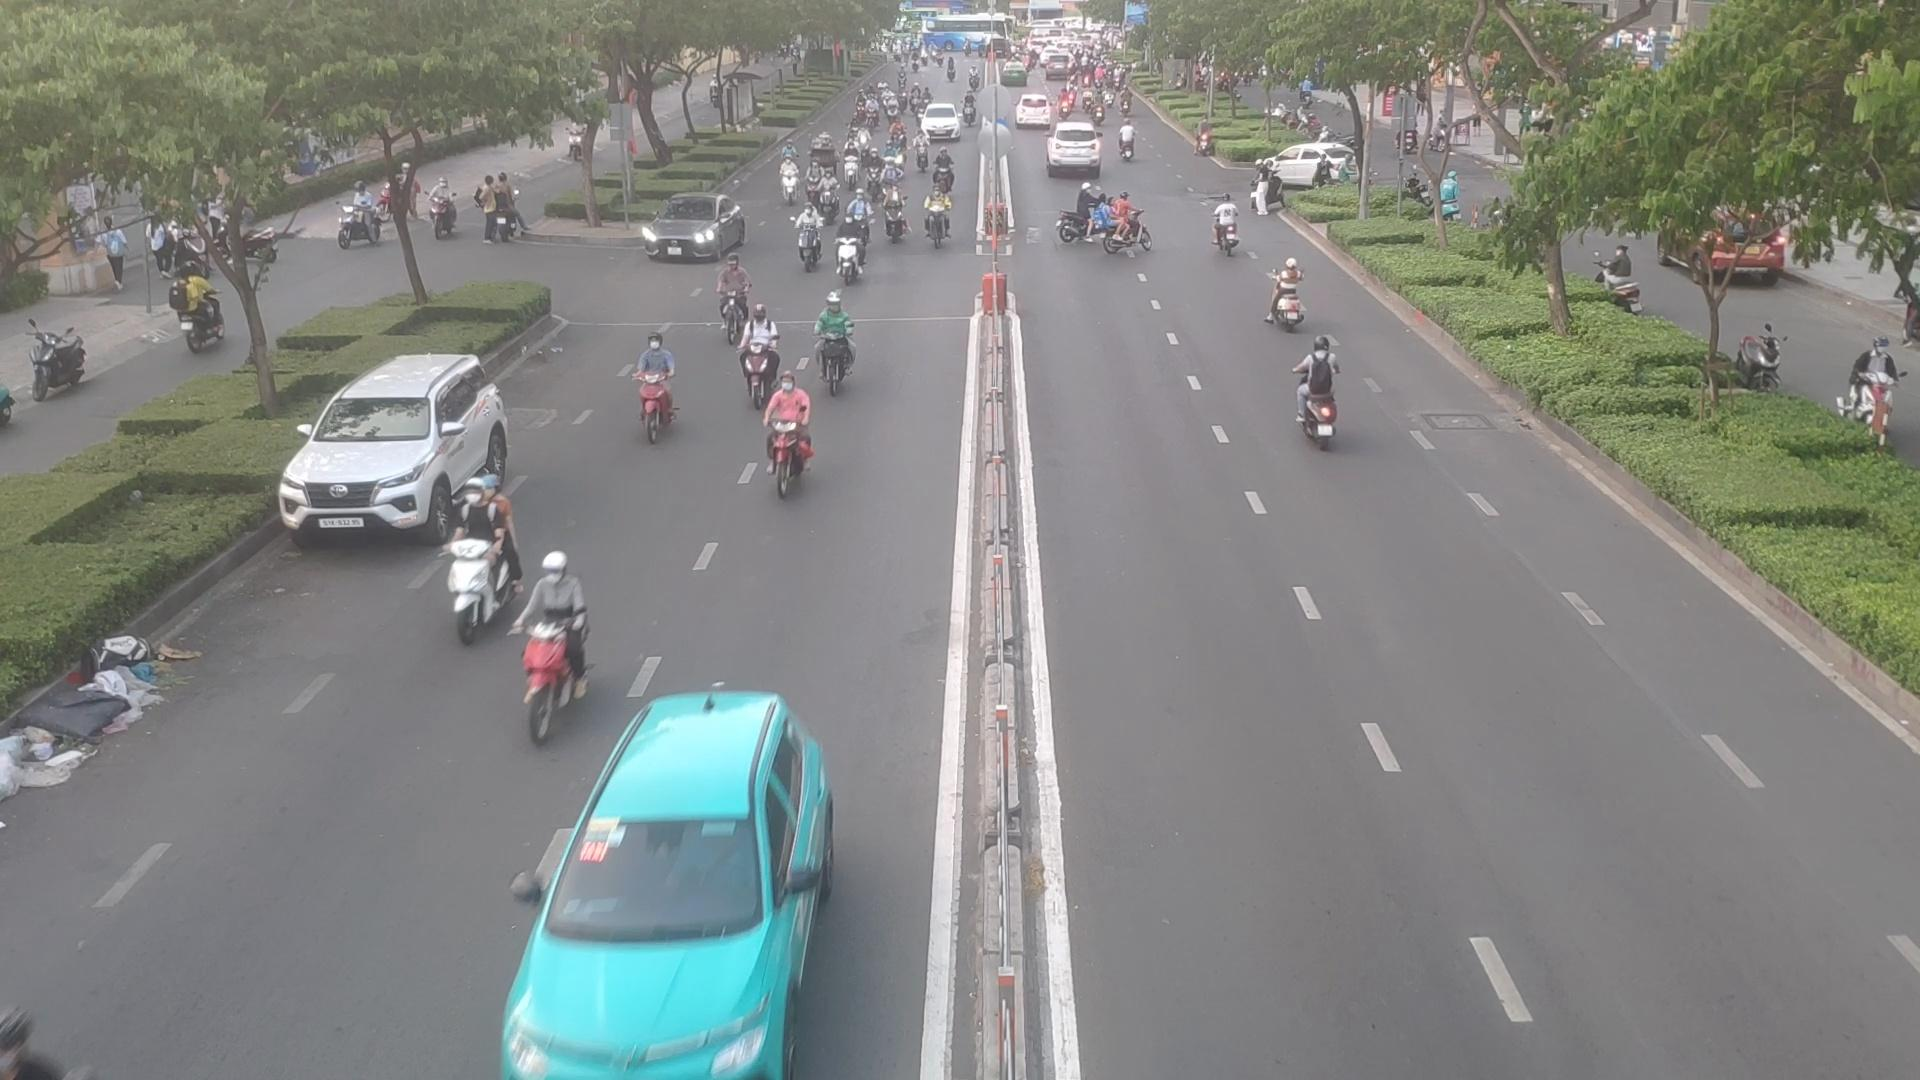car: (541, 688, 827, 1080), (280, 356, 512, 550), (644, 196, 752, 262), (1265, 142, 1360, 189), (1051, 127, 1106, 177)
motorbike: (513, 556, 595, 735), (448, 479, 512, 622), (1295, 328, 1350, 433), (767, 359, 803, 489), (640, 328, 680, 438), (1096, 187, 1149, 258), (814, 287, 848, 385), (709, 253, 745, 343), (738, 299, 769, 389), (1273, 253, 1307, 332), (1207, 189, 1247, 255), (1054, 189, 1098, 245), (795, 200, 822, 276), (923, 185, 945, 243), (852, 190, 873, 247), (930, 146, 955, 191), (841, 214, 857, 277), (865, 149, 884, 198), (887, 187, 903, 243), (818, 169, 837, 211), (909, 136, 934, 167), (1118, 117, 1135, 160), (779, 157, 796, 196), (845, 145, 858, 193), (880, 141, 899, 173), (808, 158, 819, 203)
